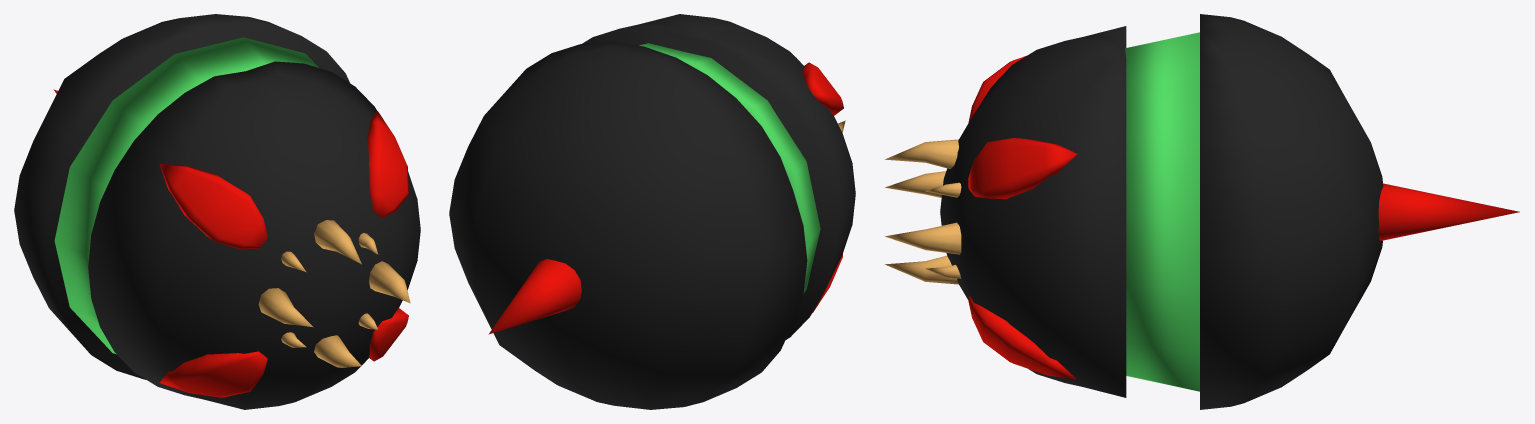
Rendered from BallMonster.fbx.
3 views of the same model, side by side, from view 1: azimuth 30°, elevation 25°; view 2: azimuth 150°, elevation 25°; view 3: azimuth 270°, elevation 25° (orthographic). The views are drawn at different scales.
Visible parts, largest first — view 1: Sphere.001, Sphere, Cylinder, Cube, Cylinder.001, Cylinder.002, Cylinder.004; view 2: Sphere, Sphere.001, Cylinder, Cone, Cube; view 3: Sphere, Sphere.001, Cylinder, Cube, Cone, Cylinder.002, Cylinder.001, Cylinder.004.
Boxes of the visible parts, x1,y1,x2,y2 form: Sphere.001: (88,61,420,409); Sphere: (14,14,349,379); Cylinder: (54,37,318,354); Cube: (159,111,409,397); Cylinder.001: (258,261,410,327); Cylinder.002: (314,220,361,367); Cylinder.004: (281,233,378,347); Sphere: (449,42,807,409); Sphere.001: (582,14,855,339); Cylinder: (639,43,820,293); Cone: (488,259,581,334); Cube: (802,62,843,312); Sphere: (1200,14,1383,409); Sphere.001: (940,26,1126,397); Cylinder: (1125,32,1199,391); Cube: (968,55,1076,379); Cone: (1378,183,1519,240); Cylinder.002: (885,139,958,284); Cylinder.001: (885,171,961,254); Cylinder.004: (925,182,961,278).
Size of the model in its own units: 181 by 185 by 297.
